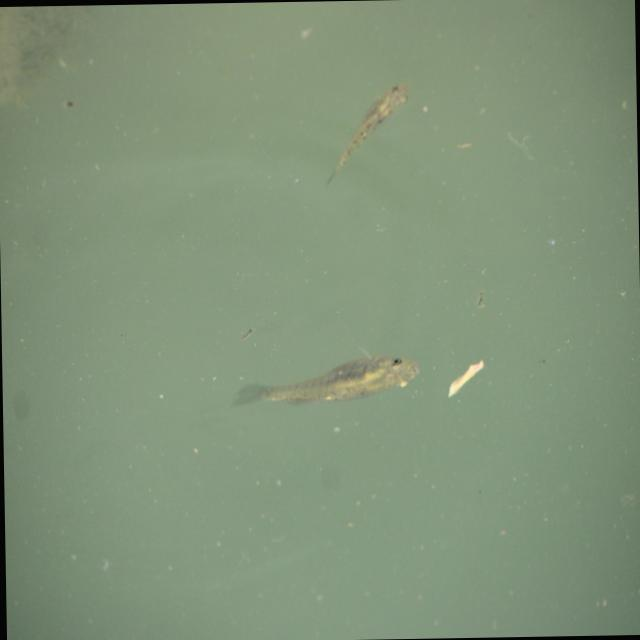Sivrisinek Baligi: (227, 350, 419, 414), (321, 80, 414, 186)
